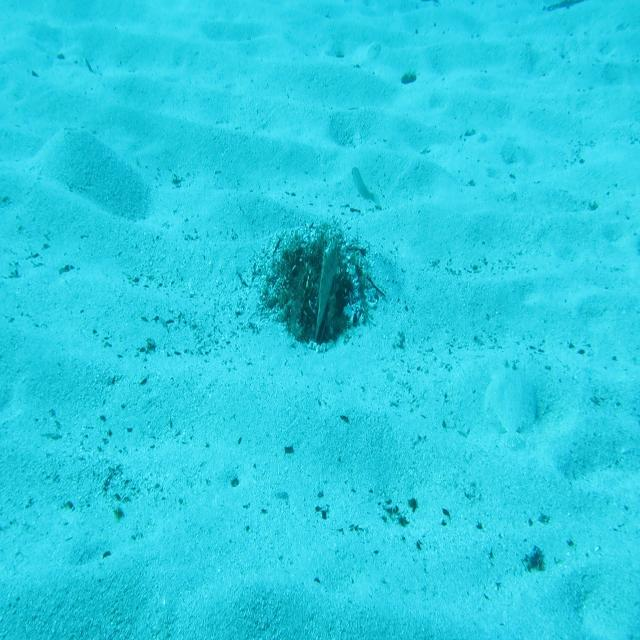H_UP: (314, 235, 338, 346)
female: (351, 167, 382, 209)
nest: (272, 228, 376, 351)
